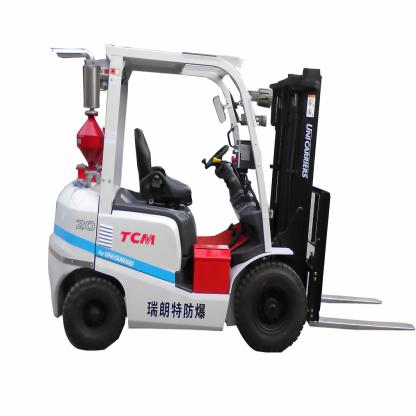forklift: (47, 44, 415, 354)
